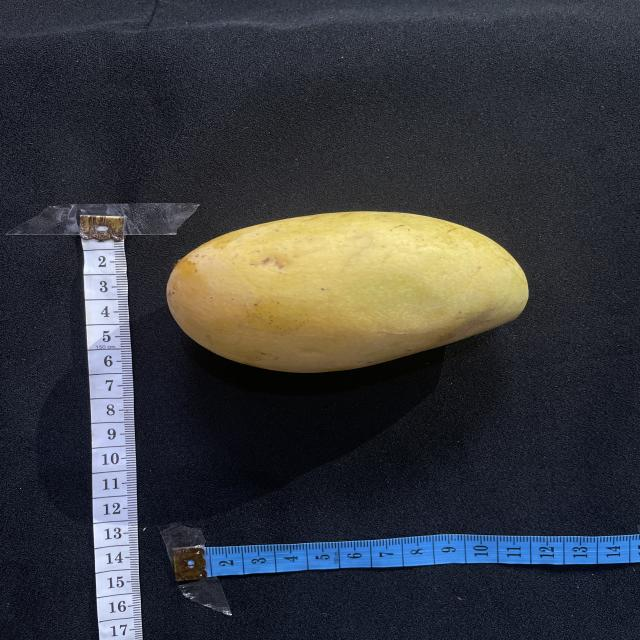Ripe: (167, 211, 528, 373)
